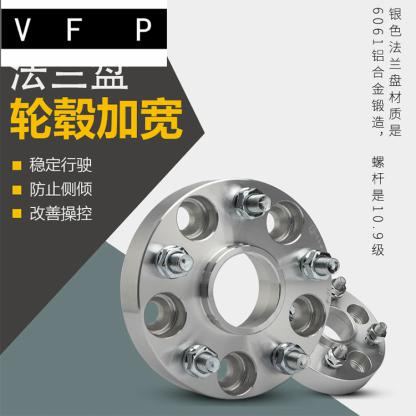FOD: (119, 177, 339, 394)
